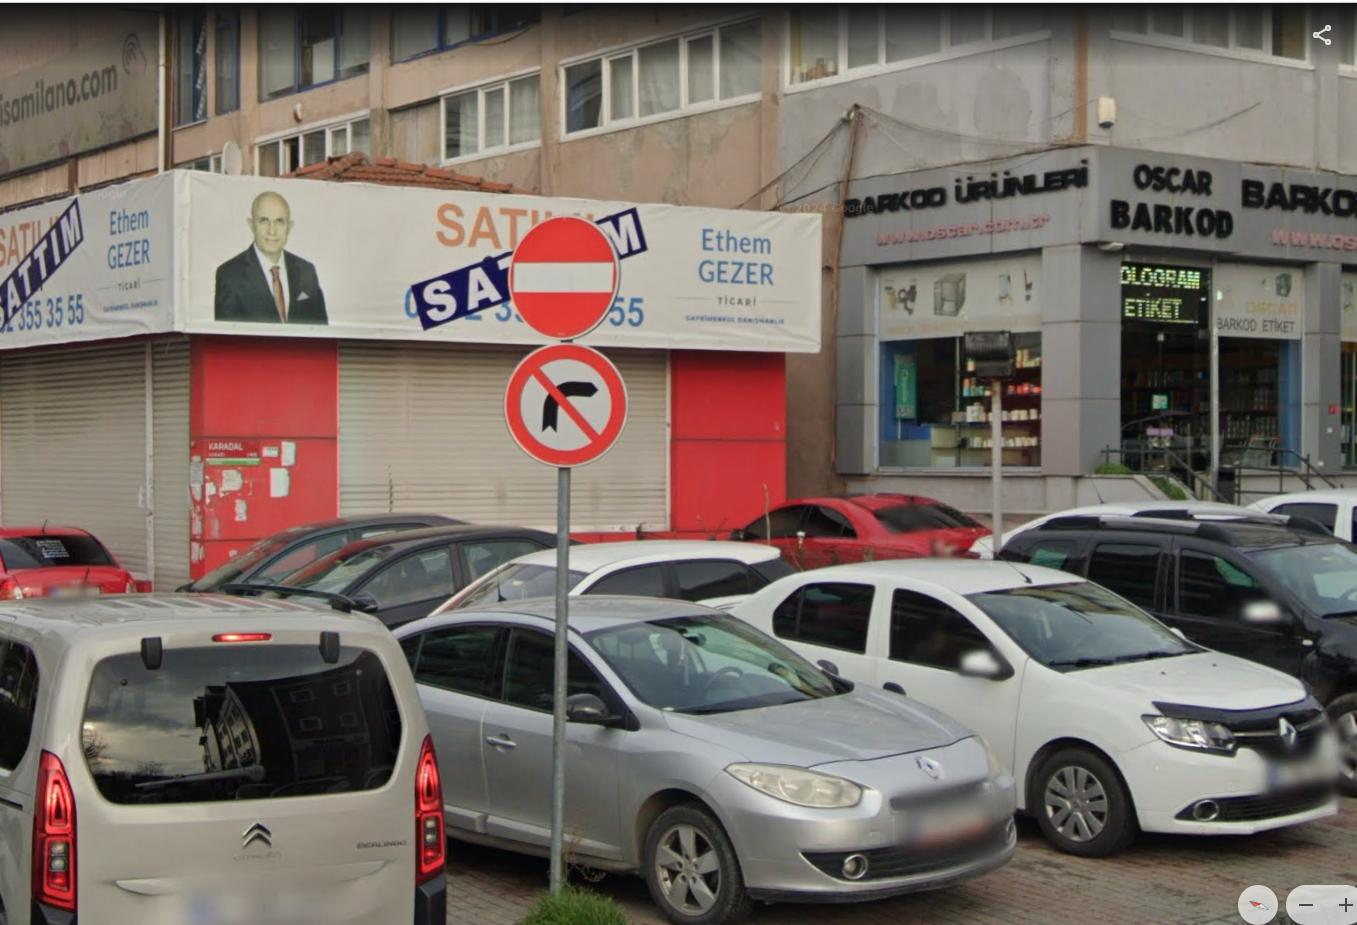rightturnsareforbidden: (499, 339, 636, 473)
